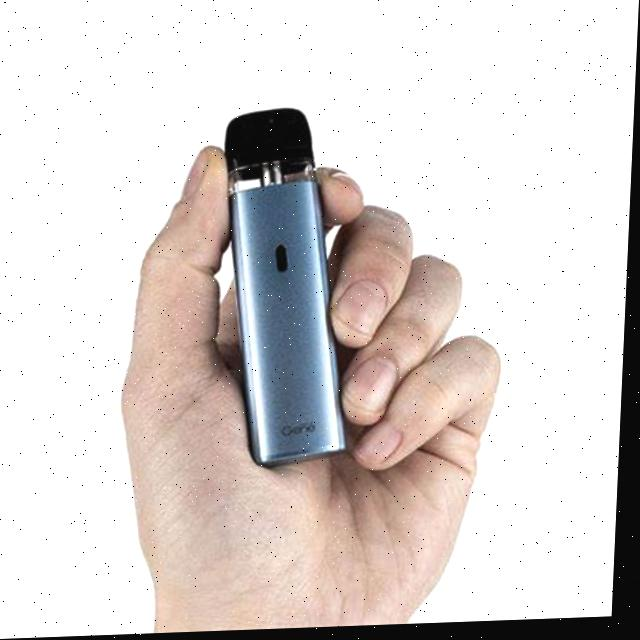vape: (215, 108, 364, 473)
